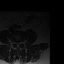CCS_normal: (17, 41, 19, 49)
LFS_stenosis: (20, 40, 22, 45)
LLS_normal: (19, 41, 20, 45)
RFS_stenosis: (13, 40, 15, 45)
RLS_stenosis: (15, 41, 17, 46)
